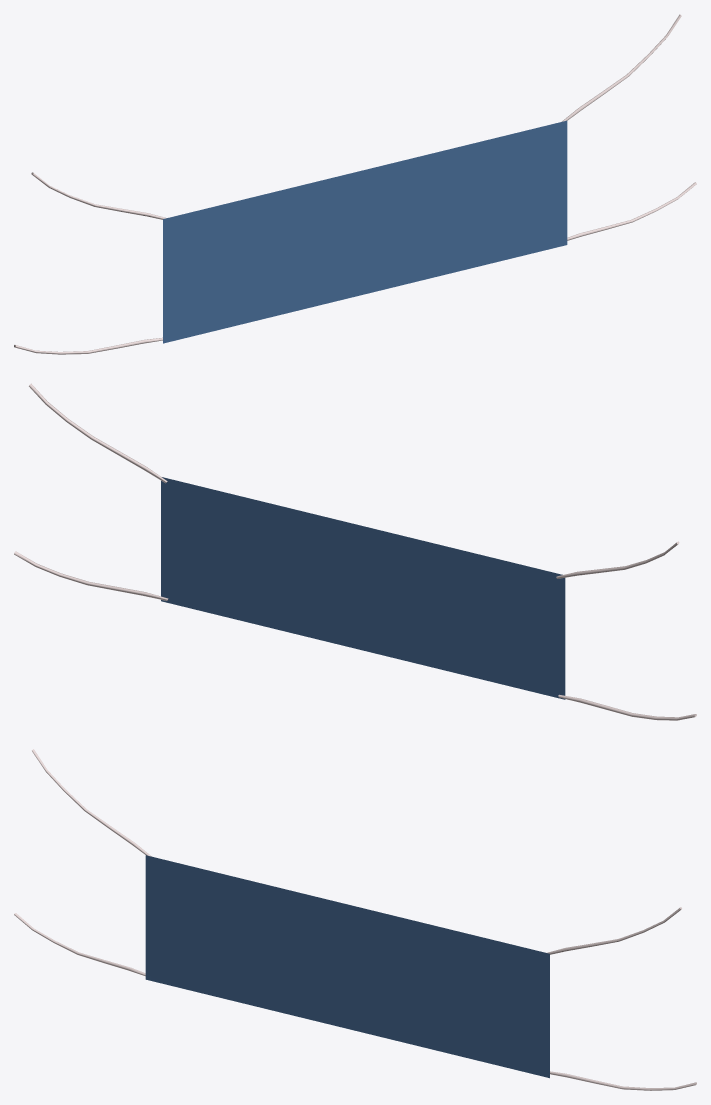
The model's file is FlyBanner03.fbx.
3 renders of one model, top to bottom at view 1: azimuth 30°, elevation 25°; view 2: azimuth 150°, elevation 25°; view 3: azimuth 330°, elevation 25°, orthographic.
Visible parts, largest first — view 1: Plane02; view 2: Plane02; view 3: Plane02.
Boxes of the visible parts, bbox=[...] form: Plane02: bbox=[14, 14, 696, 354]; Plane02: bbox=[14, 383, 696, 720]; Plane02: bbox=[14, 749, 696, 1090].
Size of the model in its own units: 88.28 by 2.25 by 24.05.
